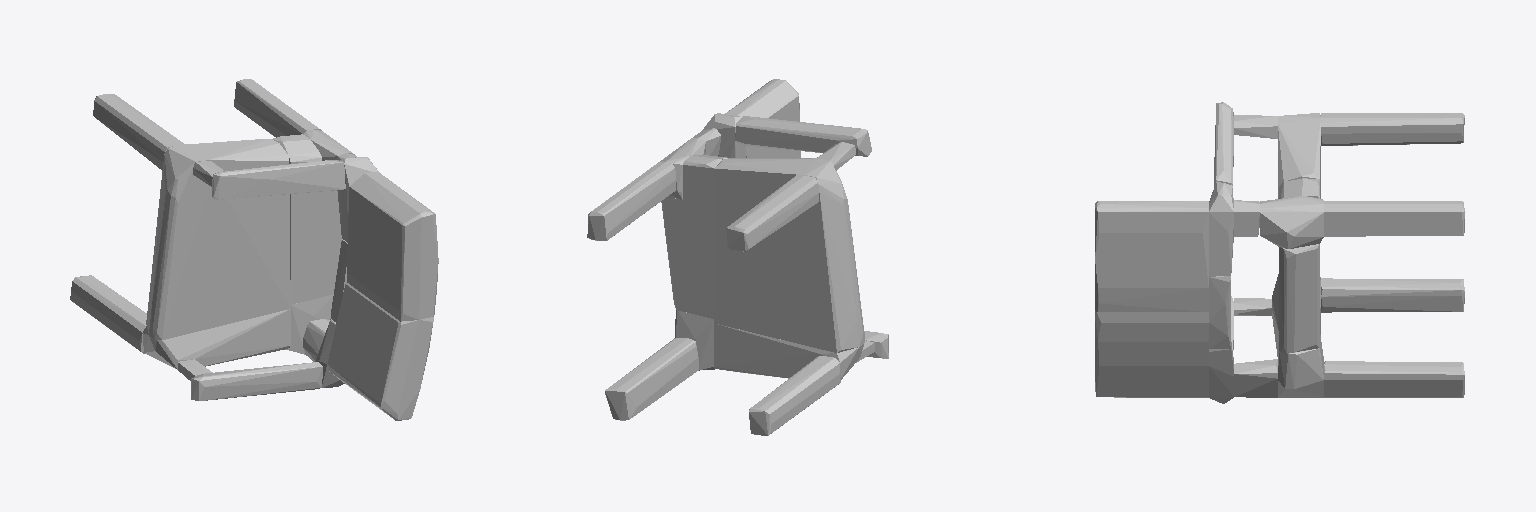
3 renders of one model, left to right at view 1: azimuth 30°, elevation 25°; view 2: azimuth 150°, elevation 25°; view 3: azimuth 270°, elevation 25°, orthographic.
Visible parts, largest first — view 1: convex_5, convex_7, convex_6, convex_14, convex_4, convex_11, convex_9, convex_0, convex_1, convex_3, convex_12, convex_15 (+5 smaller); view 2: convex_5, convex_14, convex_4, convex_2, convex_11, convex_0, convex_1, convex_3, convex_7, convex_17, convex_12, convex_15 (+2 smaller); view 3: convex_7, convex_6, convex_2, convex_3, convex_0, convex_1, convex_14, convex_18, convex_5, convex_15, convex_12, convex_13 (+7 smaller).
Part boxes in pixels (x1,y1,x2,y2): convex_5: (146, 139, 290, 339); convex_7: (347, 171, 438, 321); convex_6: (327, 282, 433, 420); convex_14: (290, 190, 341, 304); convex_4: (143, 309, 290, 369); convex_11: (212, 160, 345, 199); convex_9: (191, 362, 322, 400); convex_0: (70, 275, 146, 353); convex_1: (93, 94, 184, 170); convex_3: (234, 79, 321, 137); convex_12: (285, 294, 333, 354); convex_15: (337, 157, 379, 242); convex_5: (714, 158, 864, 352); convex_14: (661, 197, 713, 318); convex_4: (714, 323, 863, 379); convex_2: (605, 338, 698, 420); convex_11: (735, 116, 871, 156); convex_0: (749, 356, 840, 435); convex_1: (726, 175, 818, 251); convex_3: (587, 162, 675, 240); convex_7: (725, 79, 800, 157); convex_17: (683, 155, 727, 207); convex_12: (675, 310, 714, 370); convex_15: (702, 113, 745, 157); convex_7: (1095, 201, 1208, 311); convex_6: (1095, 311, 1208, 397); convex_2: (1324, 361, 1464, 397); convex_3: (1324, 201, 1464, 236); convex_0: (1321, 278, 1464, 312); convex_1: (1321, 113, 1464, 145); convex_14: (1279, 244, 1319, 353); convex_18: (1260, 196, 1323, 248); convex_5: (1278, 113, 1320, 198); convex_15: (1209, 182, 1233, 276); convex_12: (1278, 335, 1323, 397); convex_13: (1234, 359, 1277, 397).
Bounding box in the file's own units: 0.5616 × 0.6534 × 0.9066.